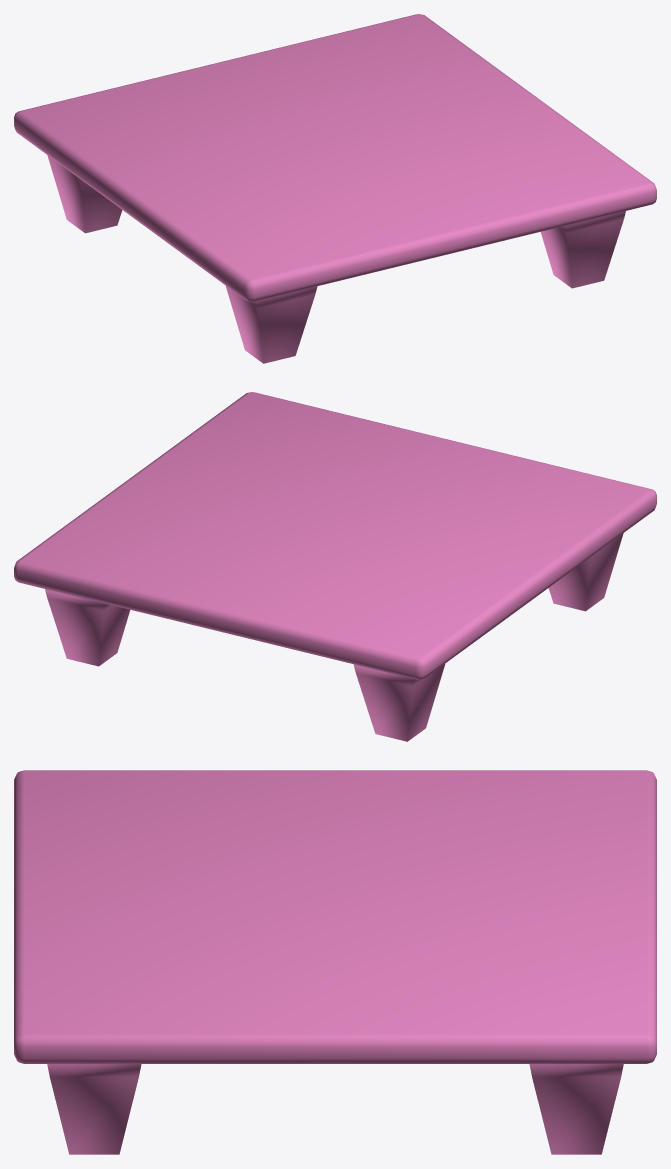
Rendered from pink coffee table.fbx.
3 renders of one model, top to bottom at view 1: azimuth 30°, elevation 25°; view 2: azimuth 150°, elevation 25°; view 3: azimuth 270°, elevation 25°, orthographic. The views are drawn at different scales.
Visible parts, largest first — view 1: Cube; view 2: Cube; view 3: Cube.
Part boxes in pixels (left/top/right/bottom): Cube: left=14, top=14, right=656, bottom=363; Cube: left=14, top=392, right=656, bottom=741; Cube: left=14, top=770, right=656, bottom=1154.
Bounding box in the file's own units: 179 × 42.99 × 179.
